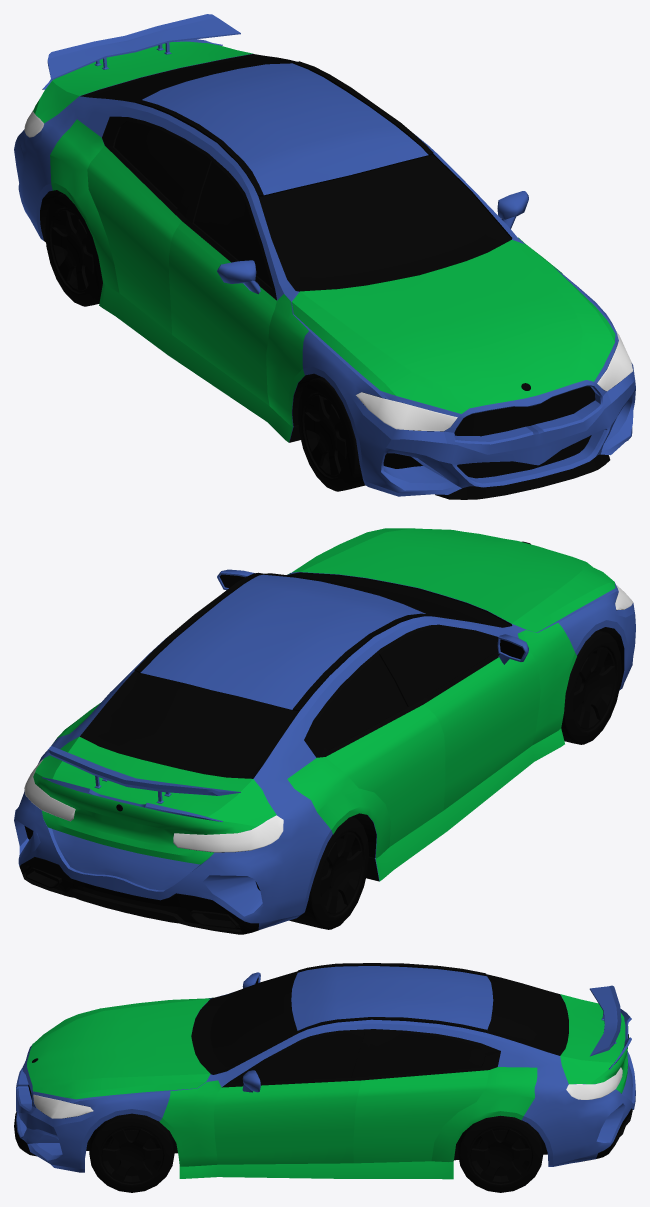
Rendered from GranModif.fbx.
3 views of the same model, one above another, from view 1: azimuth 30°, elevation 25°; view 2: azimuth 150°, elevation 25°; view 3: azimuth 270°, elevation 25° (orthographic). The views are drawn at different scales.
Visible parts, largest first — view 1: Gran_Modify:granm11z, Gran_Modify:Gran8_Front, Gran_Modify:Gran8_Side, Gran_Modify:Gran8_Back, Gran_Modify:tekeron1z, Gran_Modify:tekerark1z, Gran_Modify:Gran_Spoiler2; view 2: Gran_Modify:granm11z, Gran_Modify:Gran8_Side, Gran_Modify:Gran8_Front, Gran_Modify:Gran8_Back, Gran_Modify:tekeron1z, Gran_Modify:tekerark1z, Gran_Modify:Gran_Spoiler2, Gran_Modify:Gran_Spoiler1; view 3: Gran_Modify:granm11z, Gran_Modify:Gran8_Side, Gran_Modify:Gran8_Front, Gran_Modify:tekeron2z, Gran_Modify:tekerark2z, Gran_Modify:Gran8_Back, Gran_Modify:Gran_Spoiler2.
Part boxes in pixels (x1,y1,x2,y2): Gran_Modify:granm11z: [14, 53, 635, 499]; Gran_Modify:Gran8_Front: [292, 240, 615, 413]; Gran_Modify:Gran8_Side: [50, 119, 562, 442]; Gran_Modify:Gran8_Back: [33, 41, 253, 123]; Gran_Modify:tekeron1z: [297, 377, 365, 491]; Gran_Modify:tekerark1z: [45, 193, 102, 306]; Gran_Modify:Gran_Spoiler2: [47, 14, 240, 80]; Gran_Modify:granm11z: [14, 541, 635, 934]; Gran_Modify:Gran8_Side: [53, 573, 576, 881]; Gran_Modify:Gran8_Front: [292, 528, 615, 632]; Gran_Modify:Gran8_Back: [33, 736, 276, 864]; Gran_Modify:tekeron1z: [561, 630, 621, 744]; Gran_Modify:tekerark1z: [289, 816, 369, 929]; Gran_Modify:Gran_Spoiler2: [47, 746, 240, 803]; Gran_Modify:Gran_Spoiler1: [42, 777, 222, 821]; Gran_Modify:granm11z: [14, 963, 635, 1172]; Gran_Modify:Gran8_Side: [159, 997, 537, 1179]; Gran_Modify:Gran8_Front: [27, 998, 210, 1099]; Gran_Modify:tekeron2z: [89, 1113, 174, 1192]; Gran_Modify:tekerark2z: [458, 1115, 543, 1192]; Gran_Modify:Gran8_Back: [560, 994, 628, 1093]; Gran_Modify:Gran_Spoiler2: [589, 985, 621, 1056].
Size of the model in its own units: 185 by 122 by 438.
